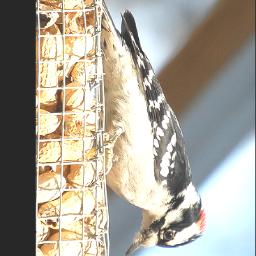Woodpecker: (94, 0, 208, 255)
